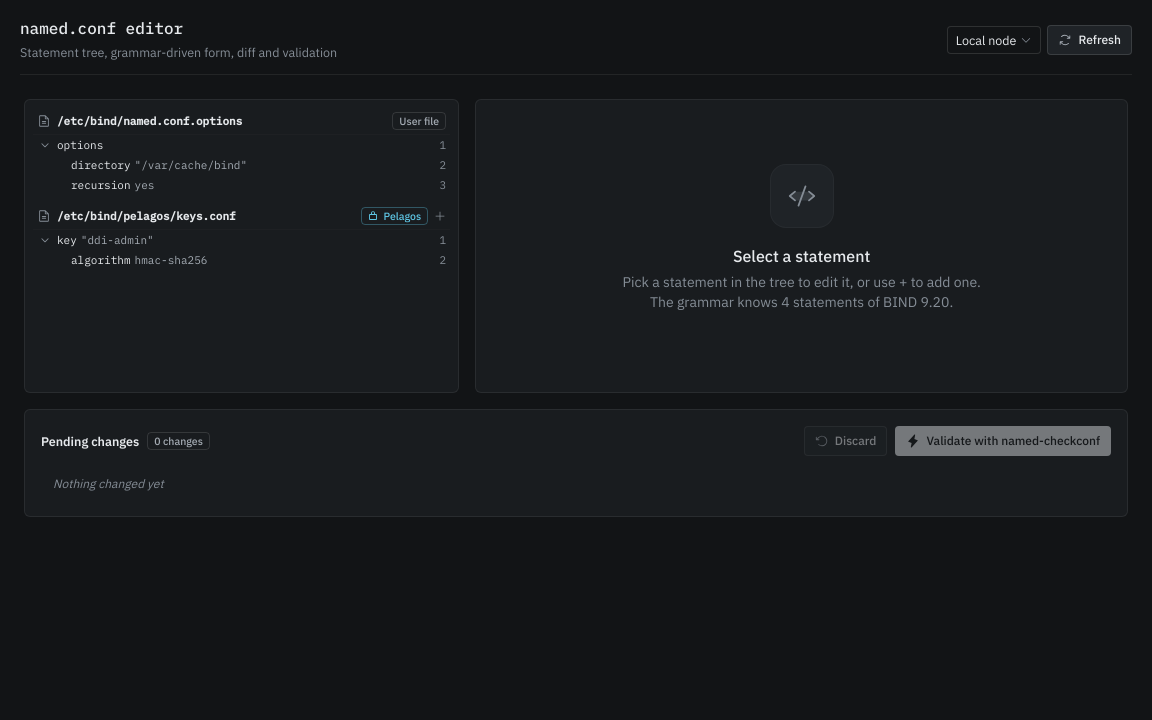
Scenario: BindEditorPage › edits a statement through its grammar form and builds a dns.config plan
Click the element with test id "bind-statement" showing "directory \"/var/cache/bind\" 2" at [242, 165], box [33,155,450,175]
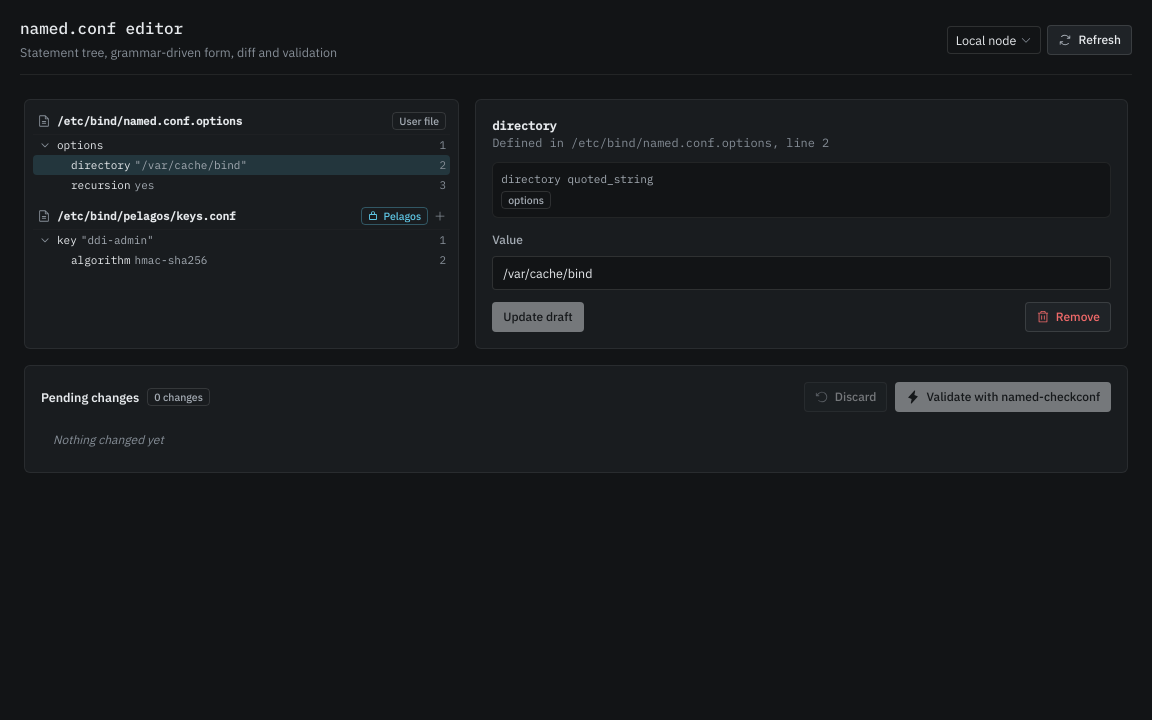
Expected: the element with test id "grammar-info" shows "directory quoted_string", [492,162,1111,218]
Replace the text in the field with test id "value-input" with "/var/lib/bind" at [802, 273], box [492,256,1111,290]
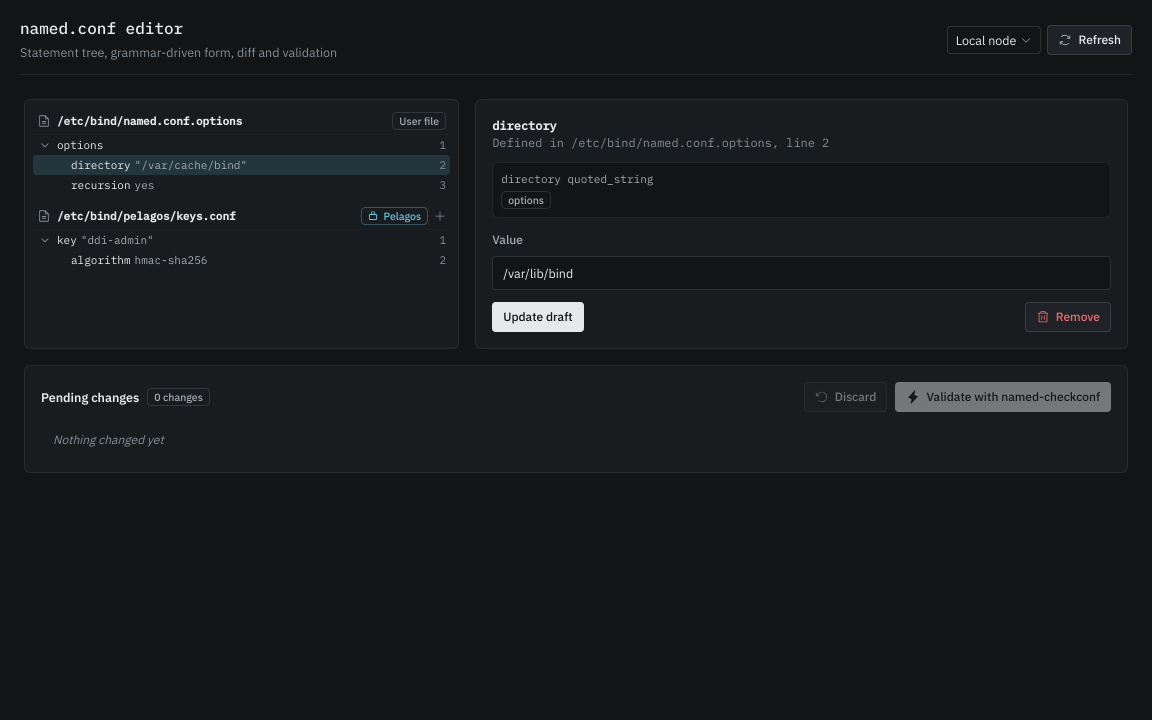
Click the button with test id "statement-save" at [538, 317], box [492,302,584,332]
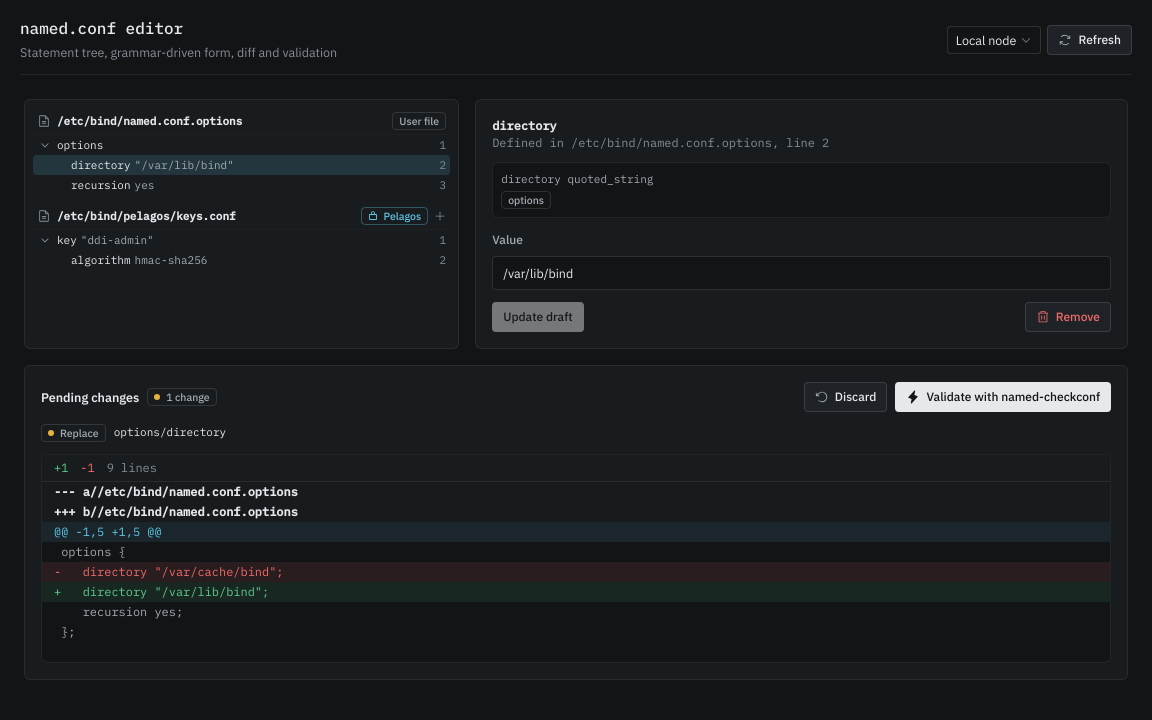
Expected: the list with test id "bind-changes" shows "options/directory", [114,425,226,439]
Click the button with test id "bind-plan" at [1003, 397], box [896,382,1111,412]
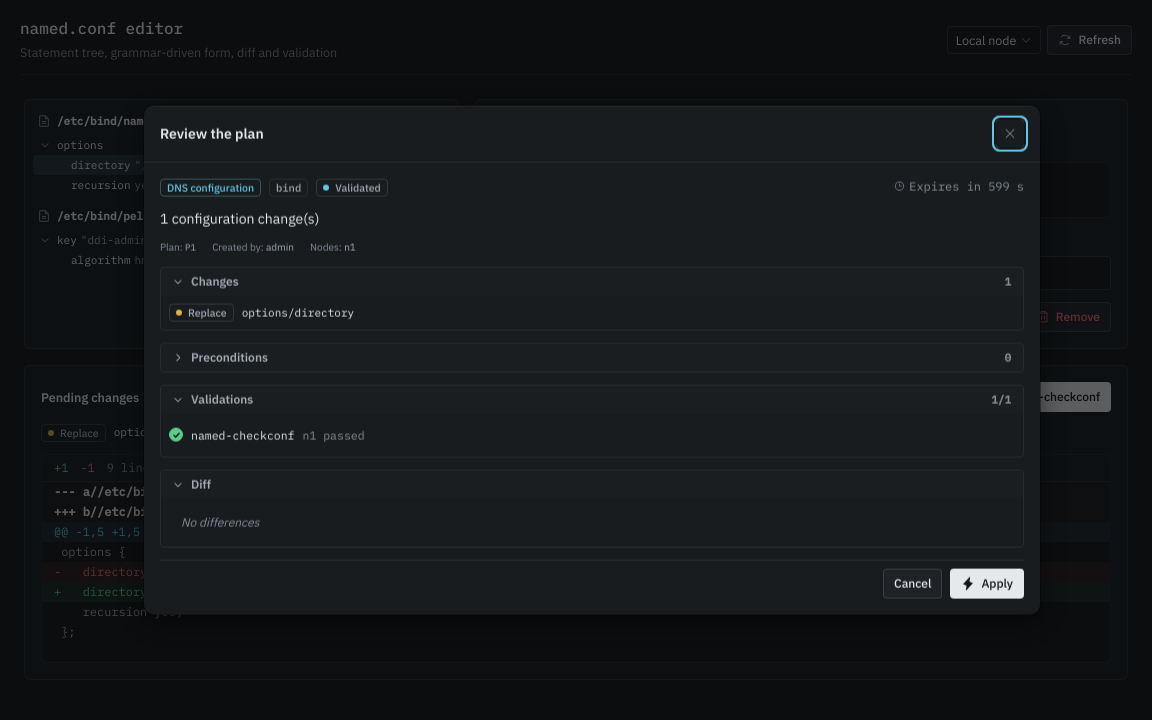
Expected: the element with test id "plan-preview" shows "1 configuration change(s)", [160,210,319,228]
